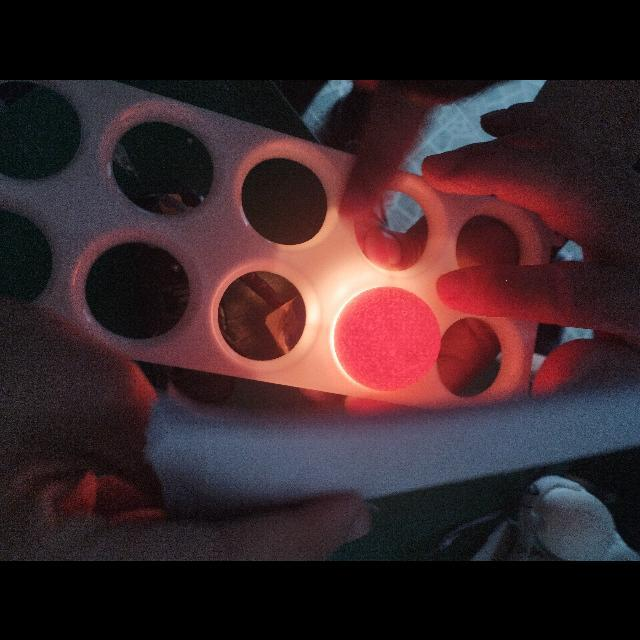Infertile: (339, 294, 438, 384)
